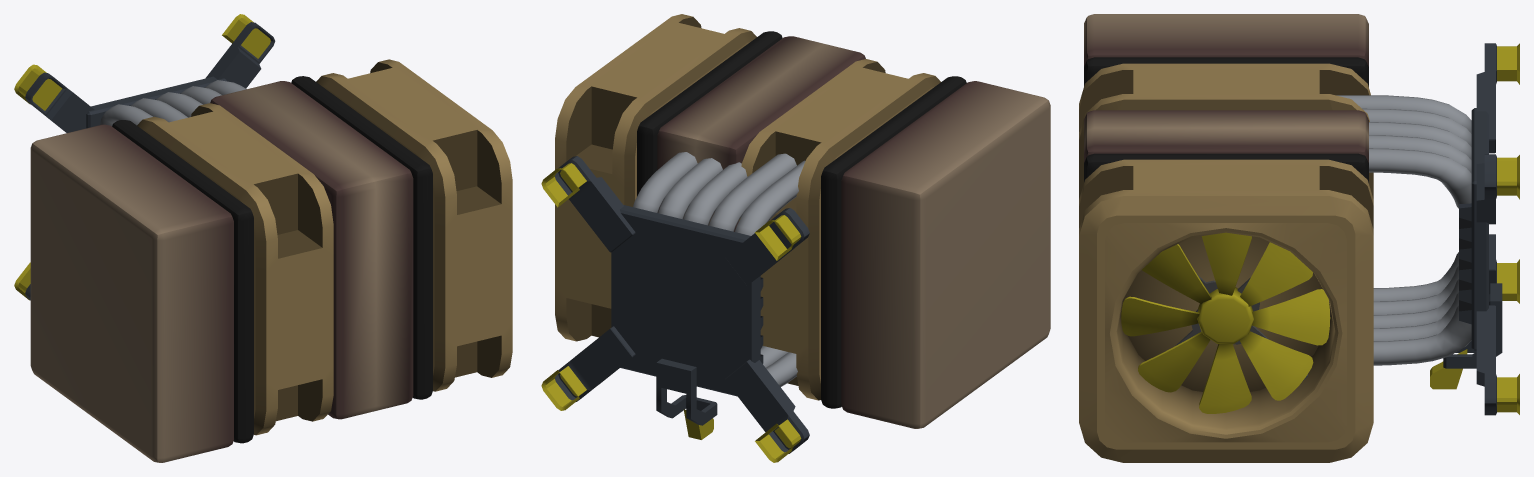
File: Cooling_systems_lvl_07_V04.fbx
3 renders of one model, left to right at view 1: azimuth 30°, elevation 25°; view 2: azimuth 150°, elevation 25°; view 3: azimuth 270°, elevation 25°, orthographic. The views are drawn at different scales.
Visible parts, largest first — view 1: Body_Cooling; view 2: Body_Cooling; view 3: Body_Cooling, Fan_Cooling.
Part boxes in pixels (x1,y1,x2,y2): Body_Cooling: [14, 14, 512, 462]; Body_Cooling: [541, 14, 1050, 462]; Body_Cooling: [1079, 14, 1519, 462]; Fan_Cooling: [1121, 232, 1330, 413].
Size of the model in its own units: 64.36 by 44.13 by 61.7.
